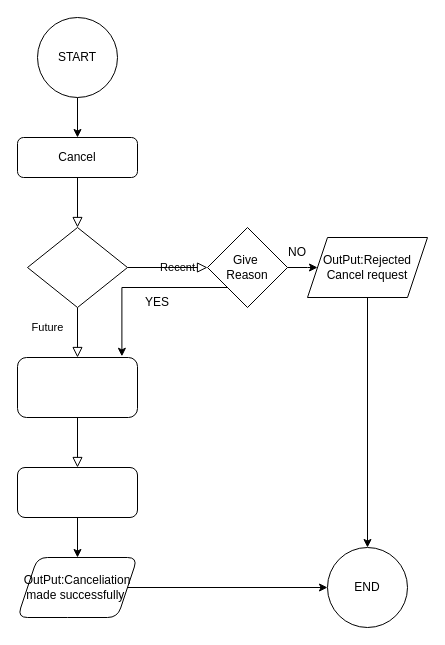
Some shapes in this 445 by 645 pixel diagram are drawn without their labels. The shapes that lost their labels are listed below. From the top down, each one's centre as x and y in pixels, then its label:
point (77, 267): Future / Recent past
point (77, 387): Edit Request Status
point (77, 492): Edit Employee Balance
